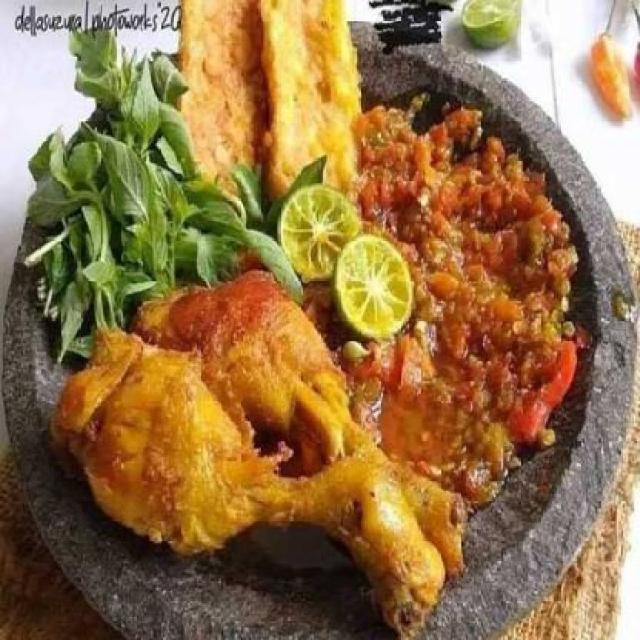Wet Waste: (54, 330, 443, 632), (137, 282, 461, 569), (268, 2, 360, 202), (184, 0, 264, 211)
